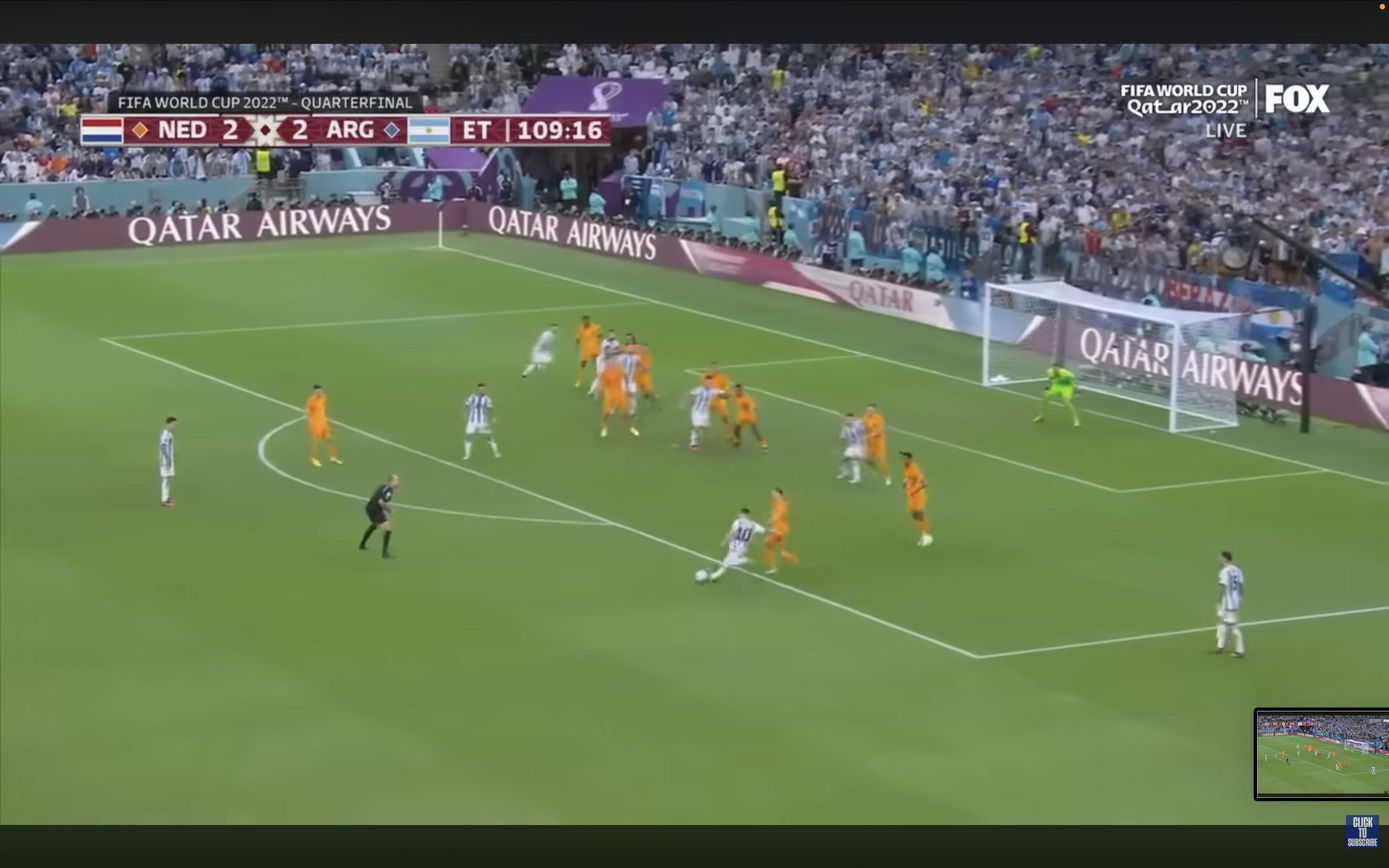ball: (695, 570, 709, 584)
goalkeeper: (1034, 365, 1080, 427)
player: (708, 506, 771, 583), (899, 450, 936, 549), (599, 353, 638, 437), (1215, 551, 1244, 657), (687, 374, 727, 450), (305, 384, 342, 466), (463, 383, 501, 460), (765, 488, 799, 574), (702, 362, 733, 442), (862, 404, 892, 485), (628, 334, 659, 408), (588, 331, 621, 399), (733, 385, 767, 450), (521, 324, 558, 381), (838, 413, 867, 484), (575, 315, 601, 388), (159, 416, 177, 507)
referee: (359, 475, 399, 559)
